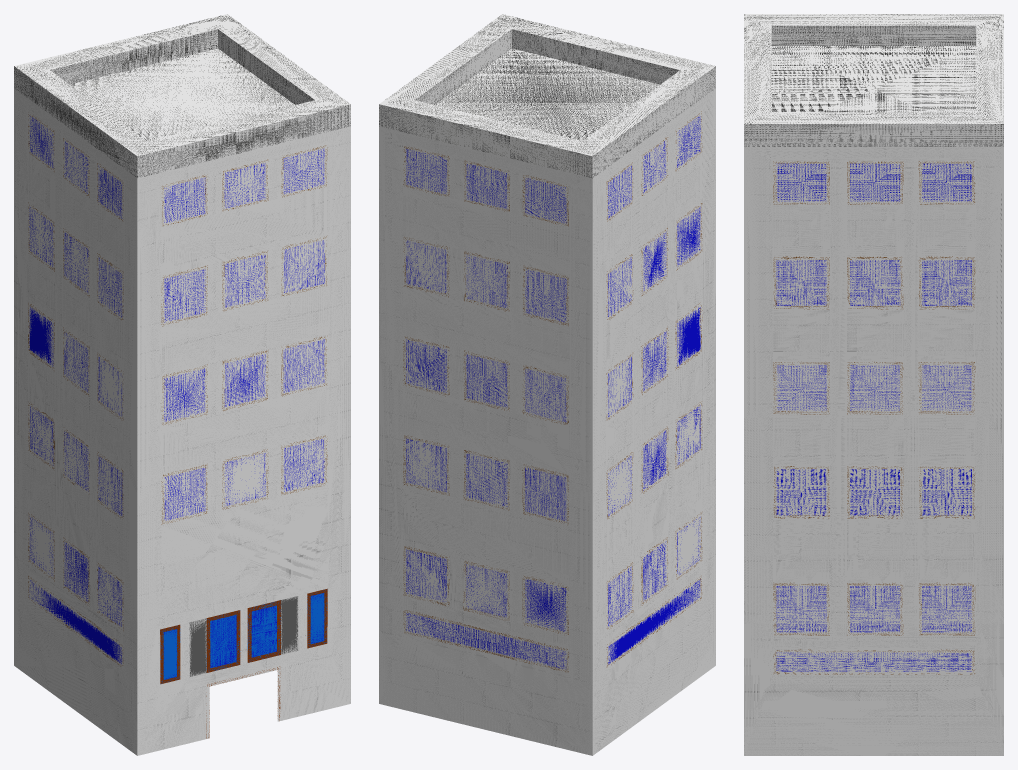
File: WorkSkyscraperNew2.fbx
The picture shows the model from 3 angles, left to right: view 1: azimuth 30°, elevation 25°; view 2: azimuth 150°, elevation 25°; view 3: azimuth 270°, elevation 25°; orthographic projection. The views are drawn at different scales.
Parts seen in each view (by area): view 1: Model; view 2: Model; view 3: Model.
Part boxes in pixels (x1=…): Model: x1=14, y1=14, x2=350, y2=755; Model: x1=379, y1=14, x2=715, y2=755; Model: x1=744, y1=14, x2=1003, y2=755.
Size of the model in its own units: 1.39 by 3.73 by 1.39.
